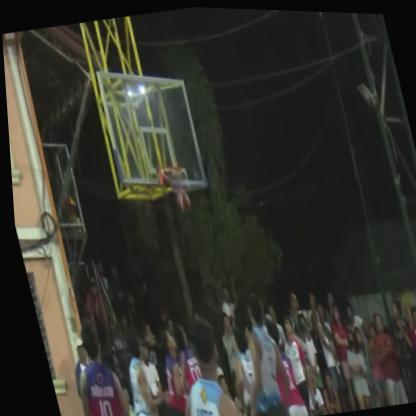basketball: (171, 186, 191, 216)
rim: (154, 156, 193, 209)
